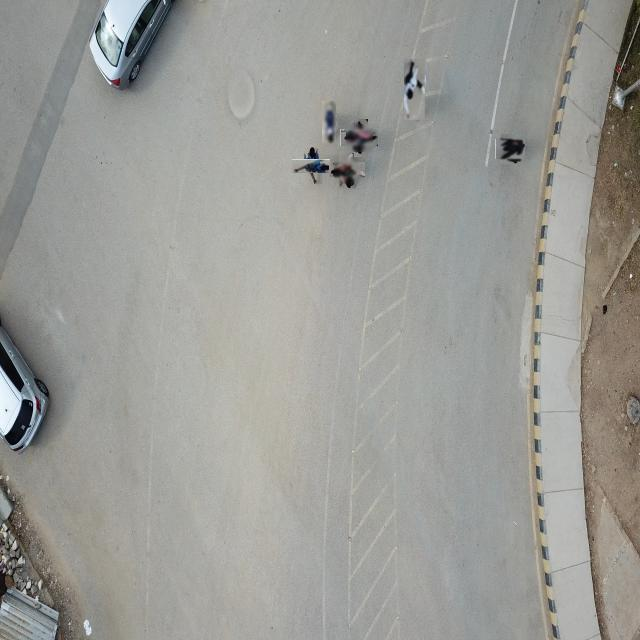Manusia: (404, 59, 426, 121), (346, 124, 374, 153), (298, 153, 325, 180), (334, 157, 361, 184), (498, 136, 524, 163), (322, 101, 337, 144)
